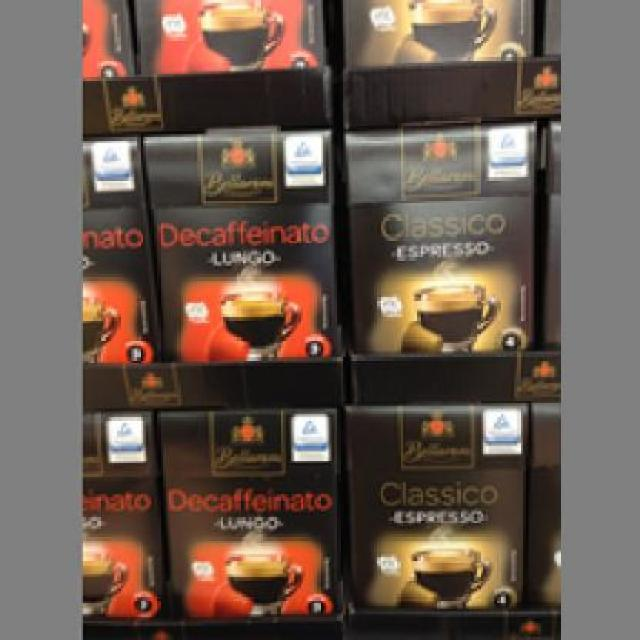Coffee: (143, 126, 340, 354), (343, 120, 531, 349), (154, 405, 340, 618), (340, 400, 526, 609)
